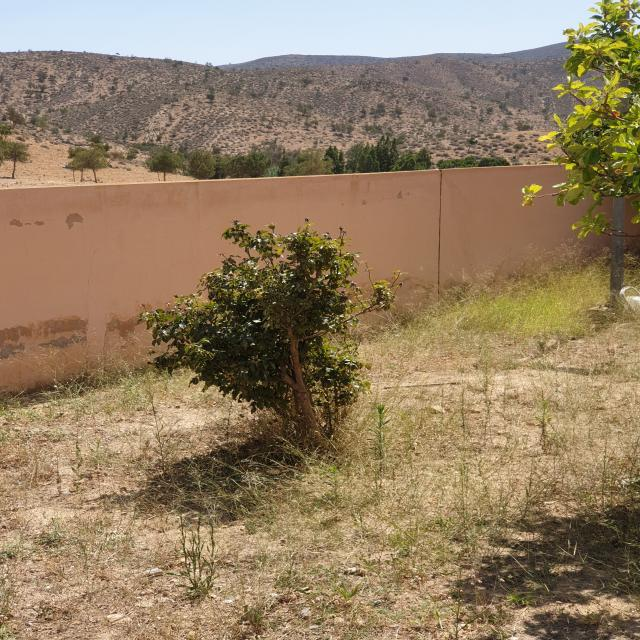Tree: (138, 219, 404, 443)
